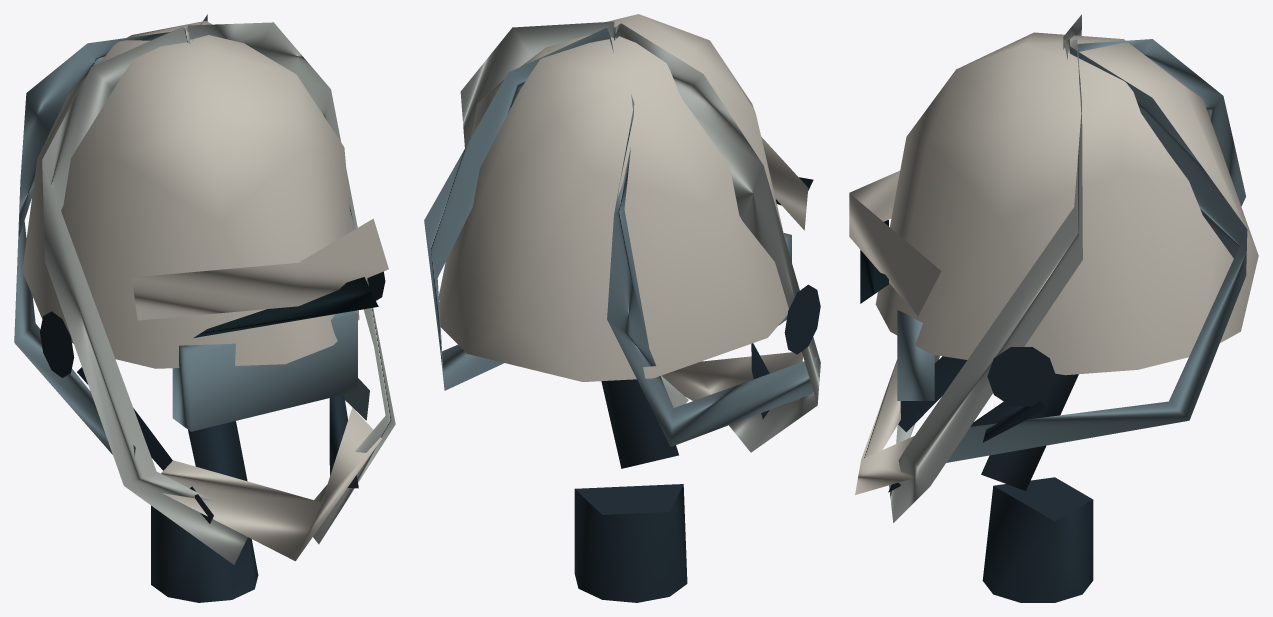
File: aurel03_head_sensor_d0_lod2.glb
3 views of the same model, side by side, from view 1: azimuth 30°, elevation 25°; view 2: azimuth 150°, elevation 25°; view 3: azimuth 270°, elevation 25° (orthographic). The views are drawn at different scales.
Visible parts, largest first — view 1: DISTANCE_SURFACE; view 2: DISTANCE_SURFACE; view 3: DISTANCE_SURFACE.
Part boxes in pixels (<box>): DISTANCE_SURFACE: <box>14,14,395,602</box>; DISTANCE_SURFACE: <box>424,14,820,602</box>; DISTANCE_SURFACE: <box>849,14,1258,602</box>.
Size of the model in its own units: 0.157 by 0.2601 by 0.178.
